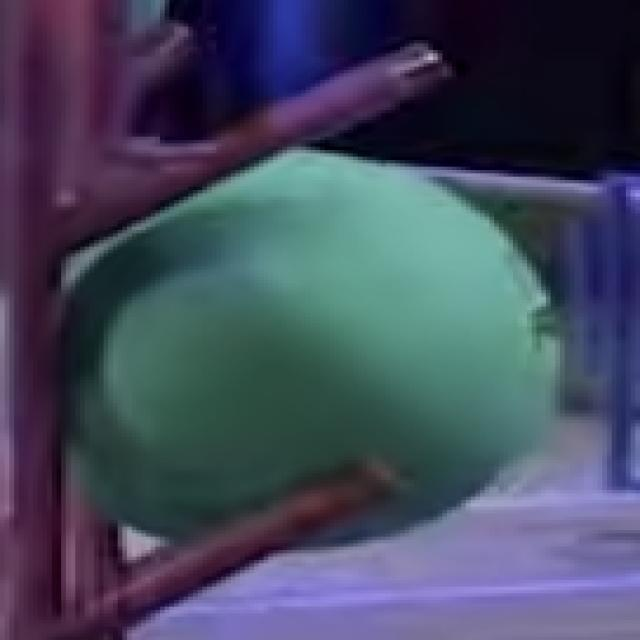Algae: (57, 147, 557, 549), (128, 0, 165, 44)
Reef: (51, 46, 449, 261), (48, 462, 397, 640), (137, 22, 194, 82)
